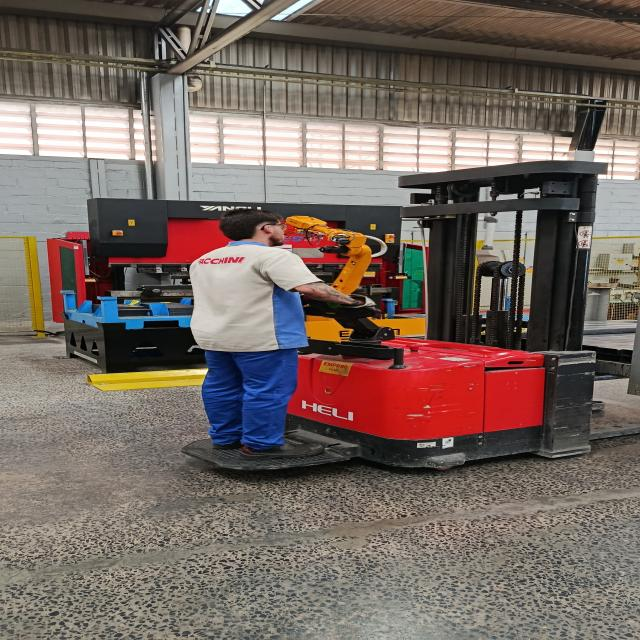oculos-epi: (261, 223, 287, 230)
